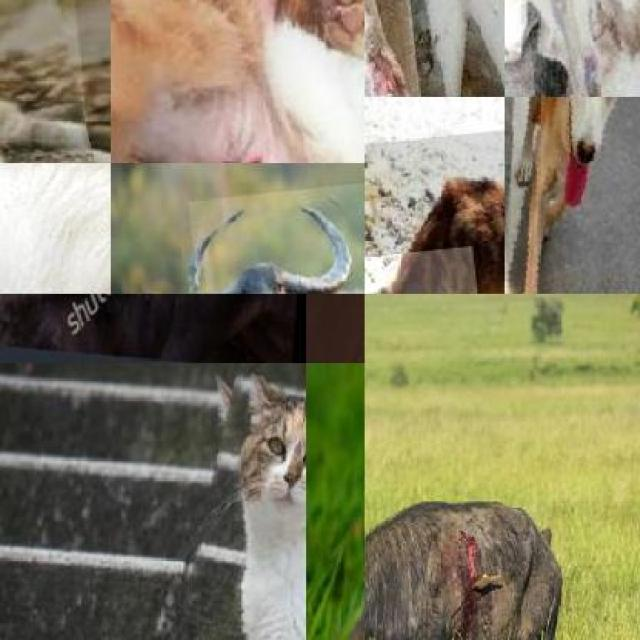buffalo: (365, 518, 563, 640), (188, 163, 364, 294)
cat: (146, 377, 306, 640), (110, 0, 364, 163), (0, 0, 97, 163)
dog: (504, 97, 640, 294), (364, 109, 504, 294)
injured: (120, 68, 308, 163), (438, 517, 504, 640), (364, 244, 496, 294)
